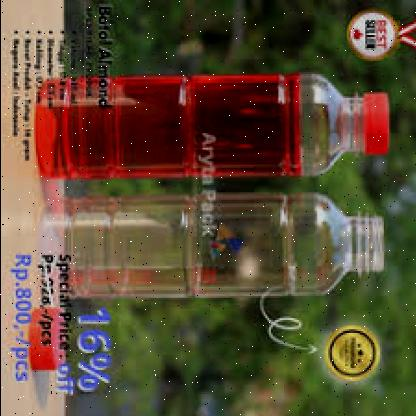Plastic Bottle: (36, 72, 390, 178), (56, 192, 384, 298)
